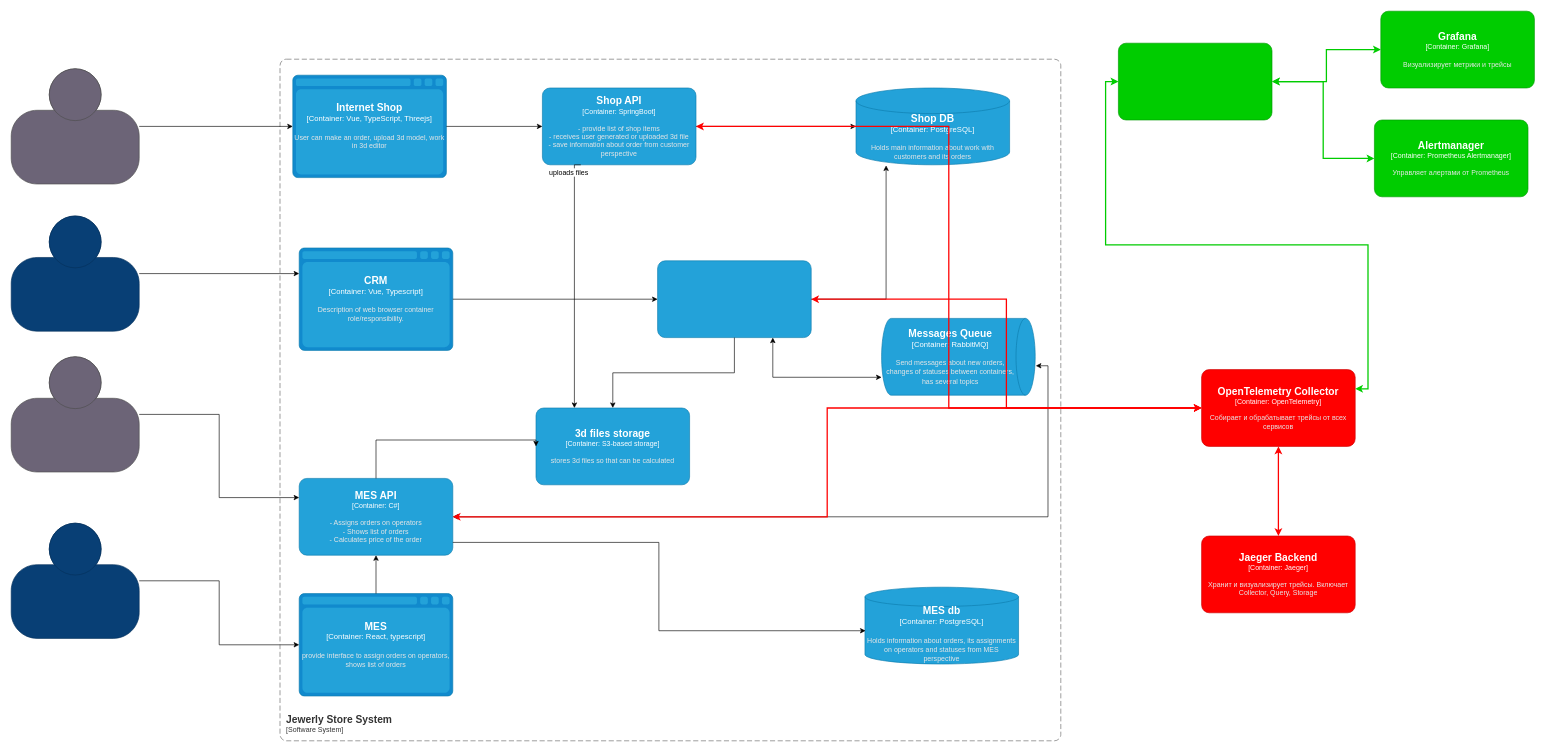
This 1546x752 diagram has some shape labels left out. Each missing label, with the centre of its shape:
"API user [Person] Description of external person." belongs at (x=75, y=414).
"CRM API [Container: SpringBoot] Description of container role/responsibility." belongs at (x=734, y=299).
"Customer [Person] Description of external person." belongs at (x=75, y=126).
"Operator [Person] Takes order in work, manufactures jewerly" belongs at (x=75, y=580).
"Prometheus [Container: Prometheus] Собирает метрики из трейсов для мониторинга" belongs at (x=1195, y=81).
"Seller [Person] Operates with order, confirms manufacturing for the user" belongs at (x=75, y=273).
